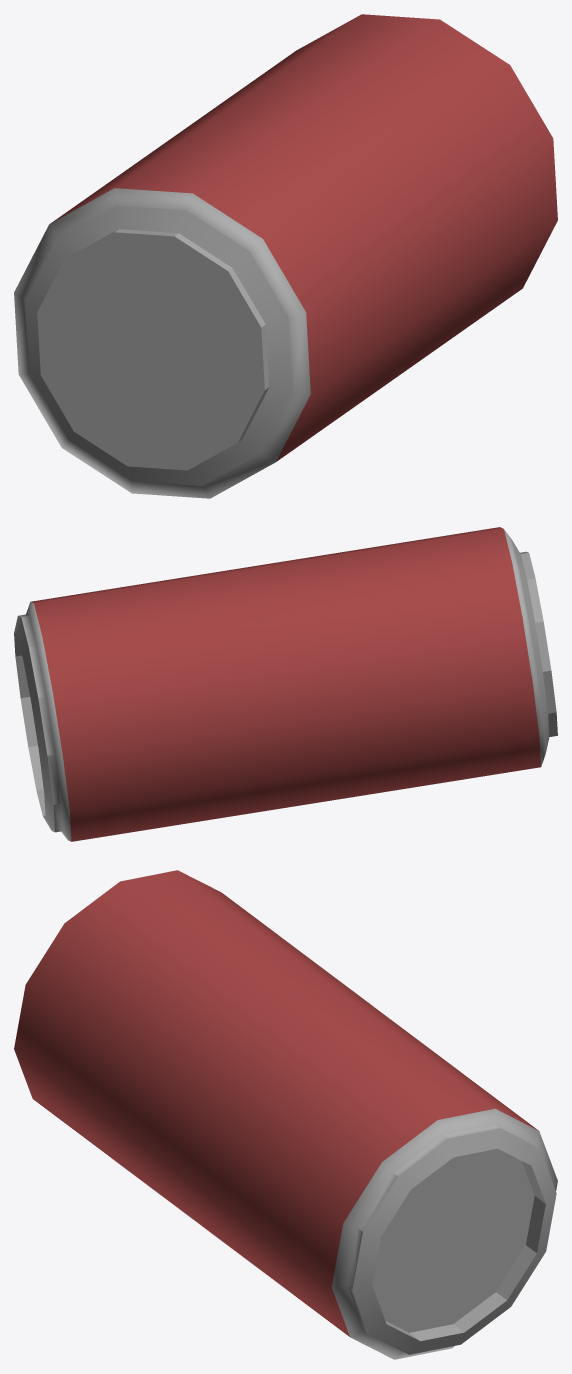
File: sodaCan.fbx
The picture shows the model from 3 angles, top to bottom: view 1: azimuth 30°, elevation 25°; view 2: azimuth 150°, elevation 25°; view 3: azimuth 270°, elevation 25°; orthographic projection. The views are drawn at different scales.
Visible parts, largest first — view 1: polySurface28; view 2: polySurface28; view 3: polySurface28.
Boxes of the visible parts, x1,y1,x2,y2 form: polySurface28: (14, 14, 557, 498); polySurface28: (14, 527, 557, 841); polySurface28: (14, 870, 557, 1359).
Bounding box in the file's own units: 3.32 × 1.89 × 3.02.
